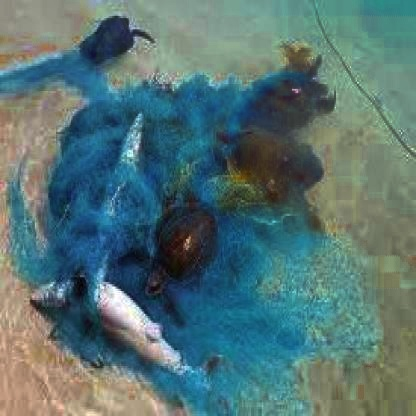net: (56, 77, 324, 366)
